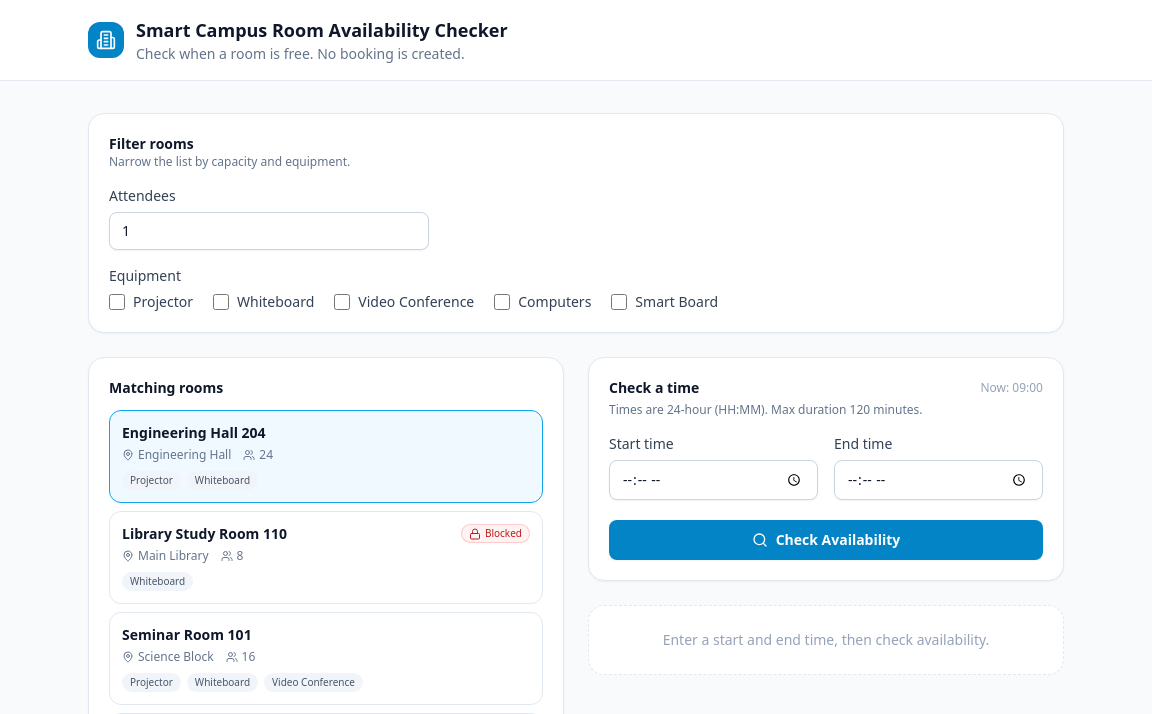
Test: UI integration (fixed clock 09:00) › U2 F1/F4: impossible capacity shows the empty state, disables the check, and Clear filters restores the list
Later steps or results of the test are not shown.
Replace the text in the number field labelled "Attendees" with "31": (269,231) [109,212,429,250]
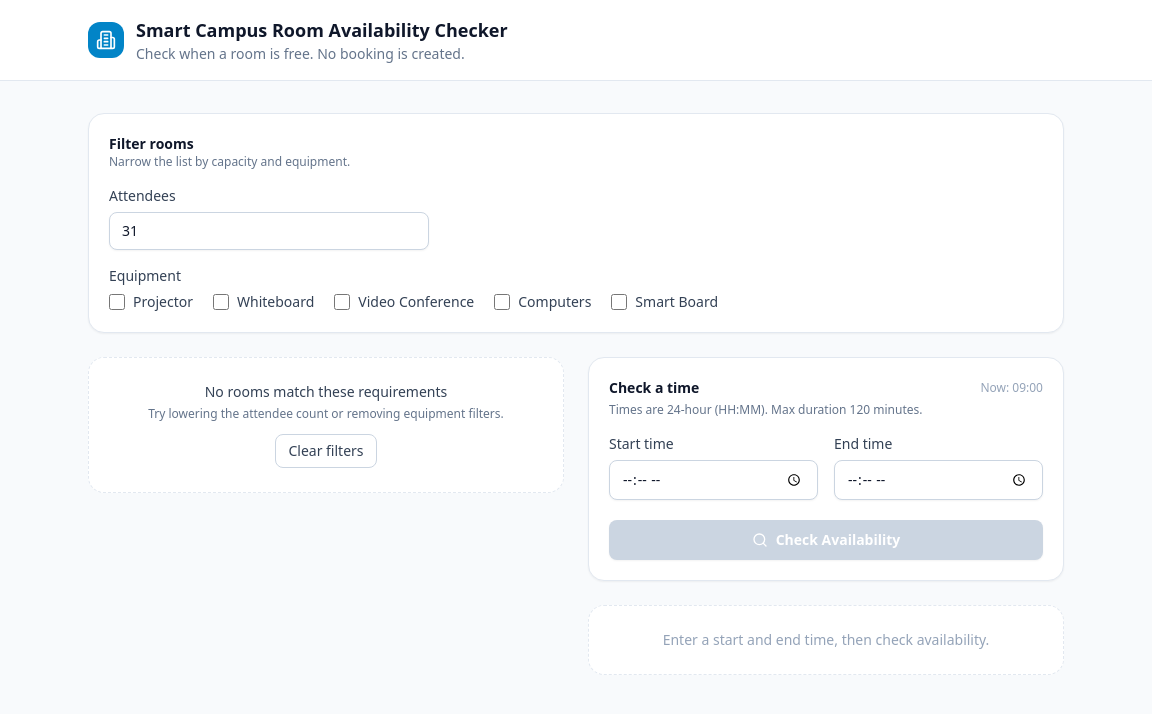
Check: the text "No rooms match these requirements" is shown, box [205,382,447,401]
Check: the button "Check Availability" is disabled, box [609,520,1043,560]
